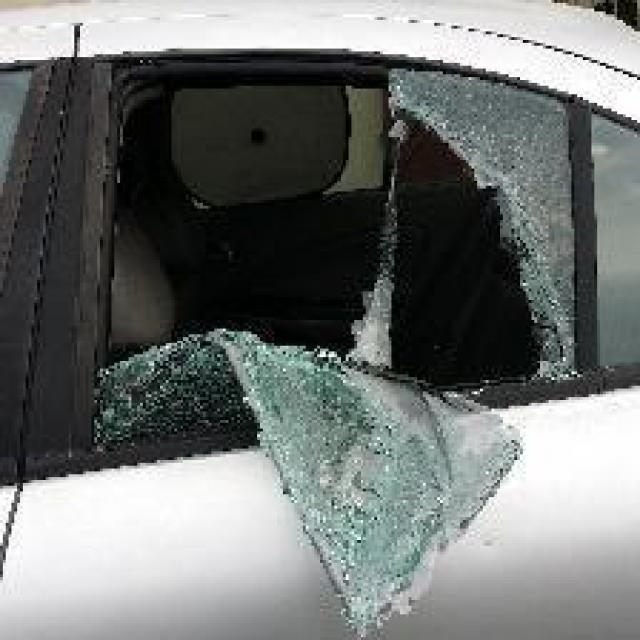damaged: (91, 54, 580, 637)
